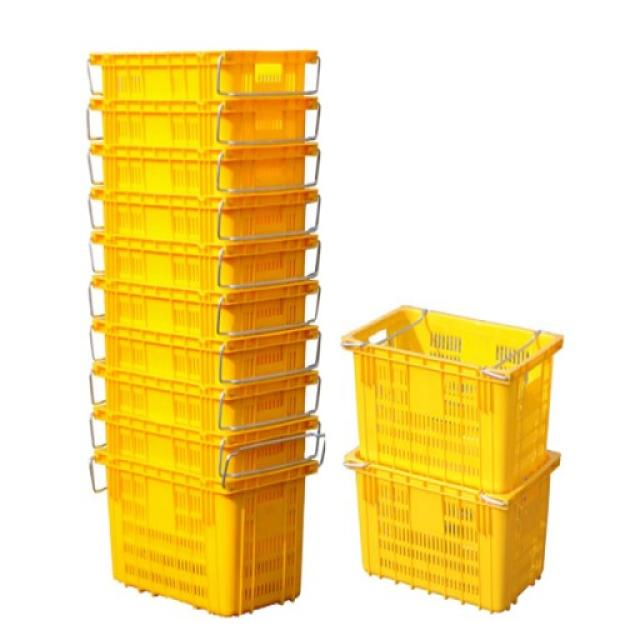basket: (320, 296, 571, 502), (86, 451, 318, 622), (343, 450, 561, 614), (90, 407, 325, 488), (90, 362, 319, 437), (89, 318, 321, 391), (90, 276, 321, 341), (91, 234, 320, 292), (90, 187, 319, 244), (90, 143, 320, 196), (90, 96, 319, 148), (89, 50, 320, 100)
